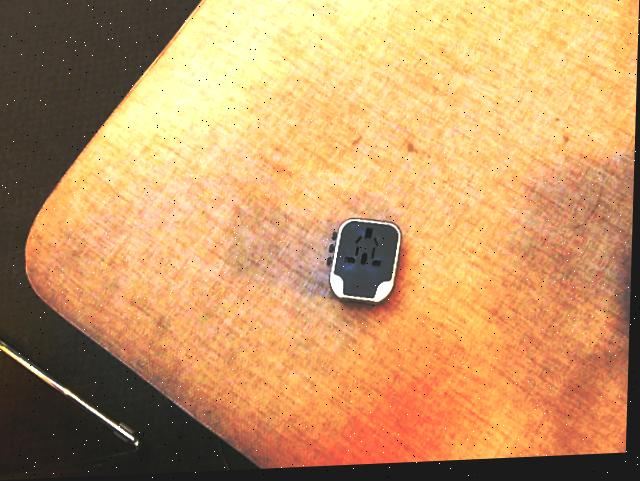adapter: (327, 220, 402, 308)
